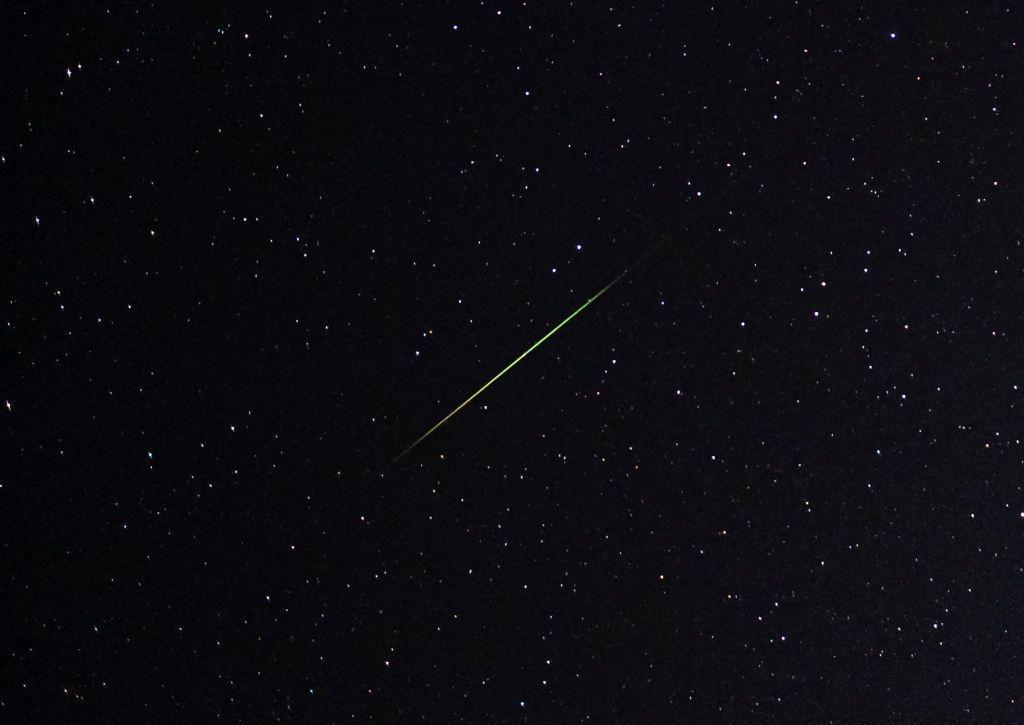meteorite: (316, 270, 614, 500)
